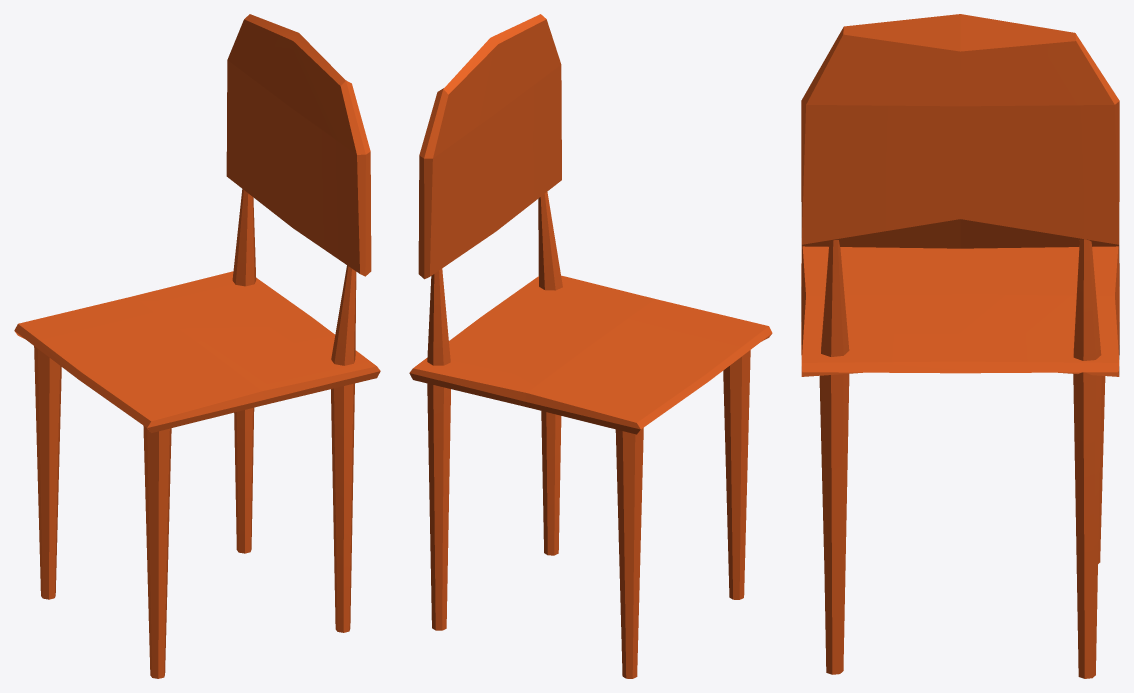
The model's file is chair.obj.
3 views of the same model, side by side, from view 1: azimuth 30°, elevation 25°; view 2: azimuth 150°, elevation 25°; view 3: azimuth 270°, elevation 25° (orthographic). The views are drawn at different scales.
Parts seen in each view (by area): view 1: Cube; view 2: Cube; view 3: Cube.
Boxes of the visible parts, x1=… form: Cube: x1=14, y1=14, x2=380, y2=678; Cube: x1=409, y1=14, x2=772, y2=678; Cube: x1=801, y1=14, x2=1119, y2=678.
Size of the model in its own units: 0.7563 by 1.69 by 0.7384.
